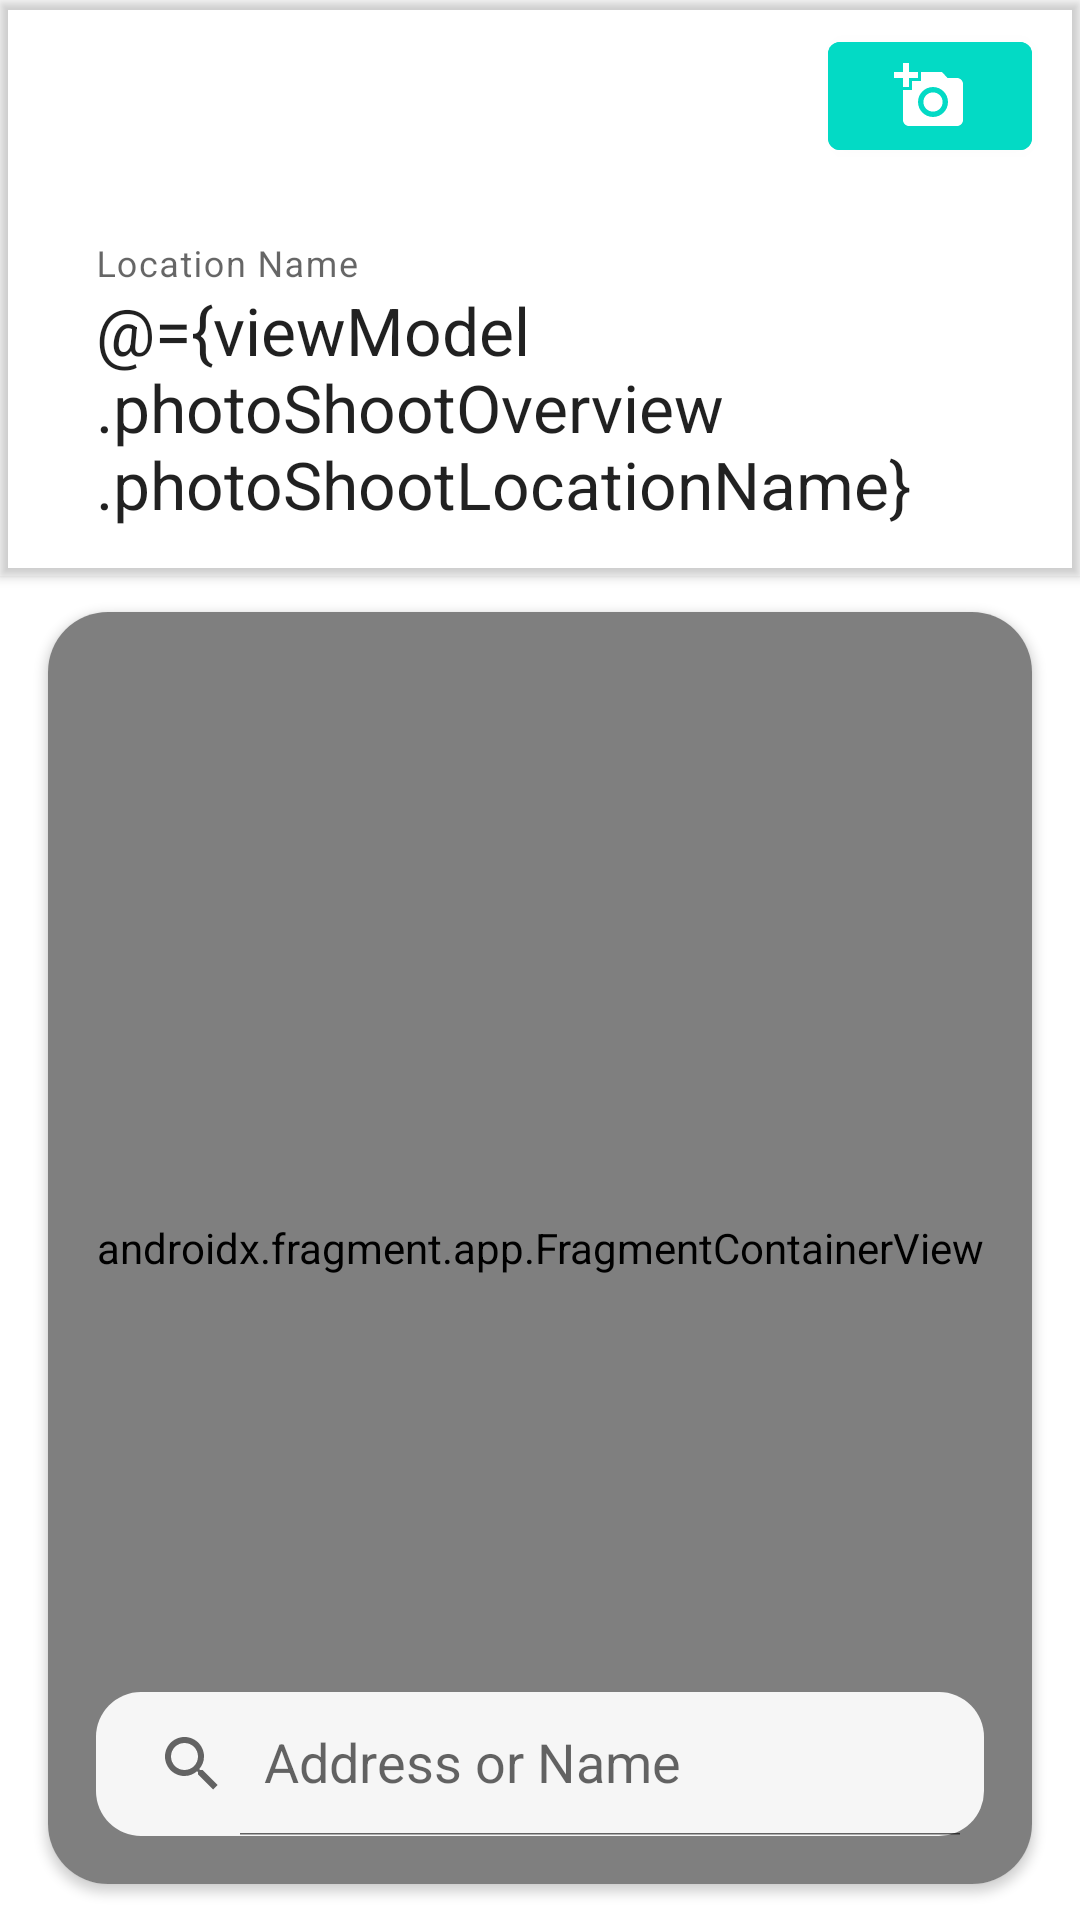

Screen size 1080 x 1920. Icon name, then its center in pixels as (x,y):
add photo: (930,96)
